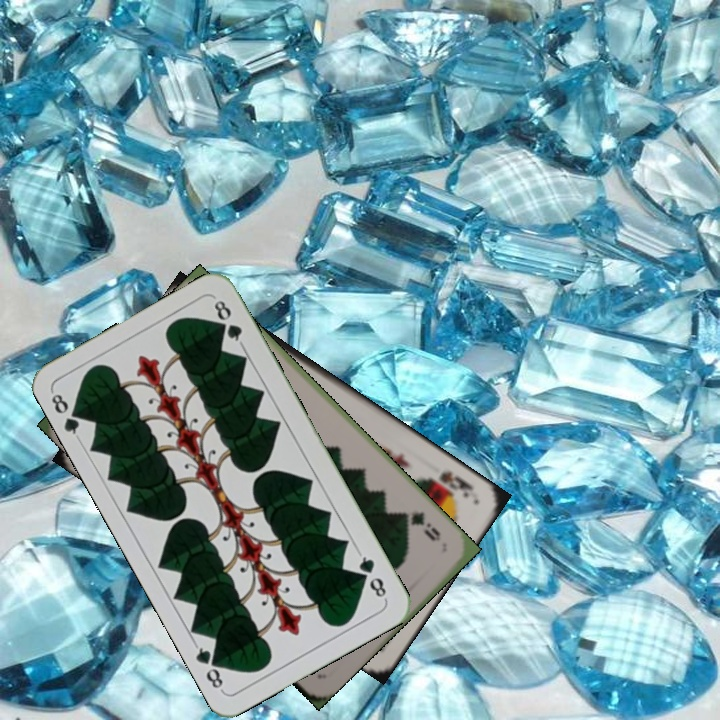G8: (46, 388, 87, 442), (354, 548, 389, 602)
G9: (397, 507, 443, 544)
SK: (435, 467, 477, 500)
